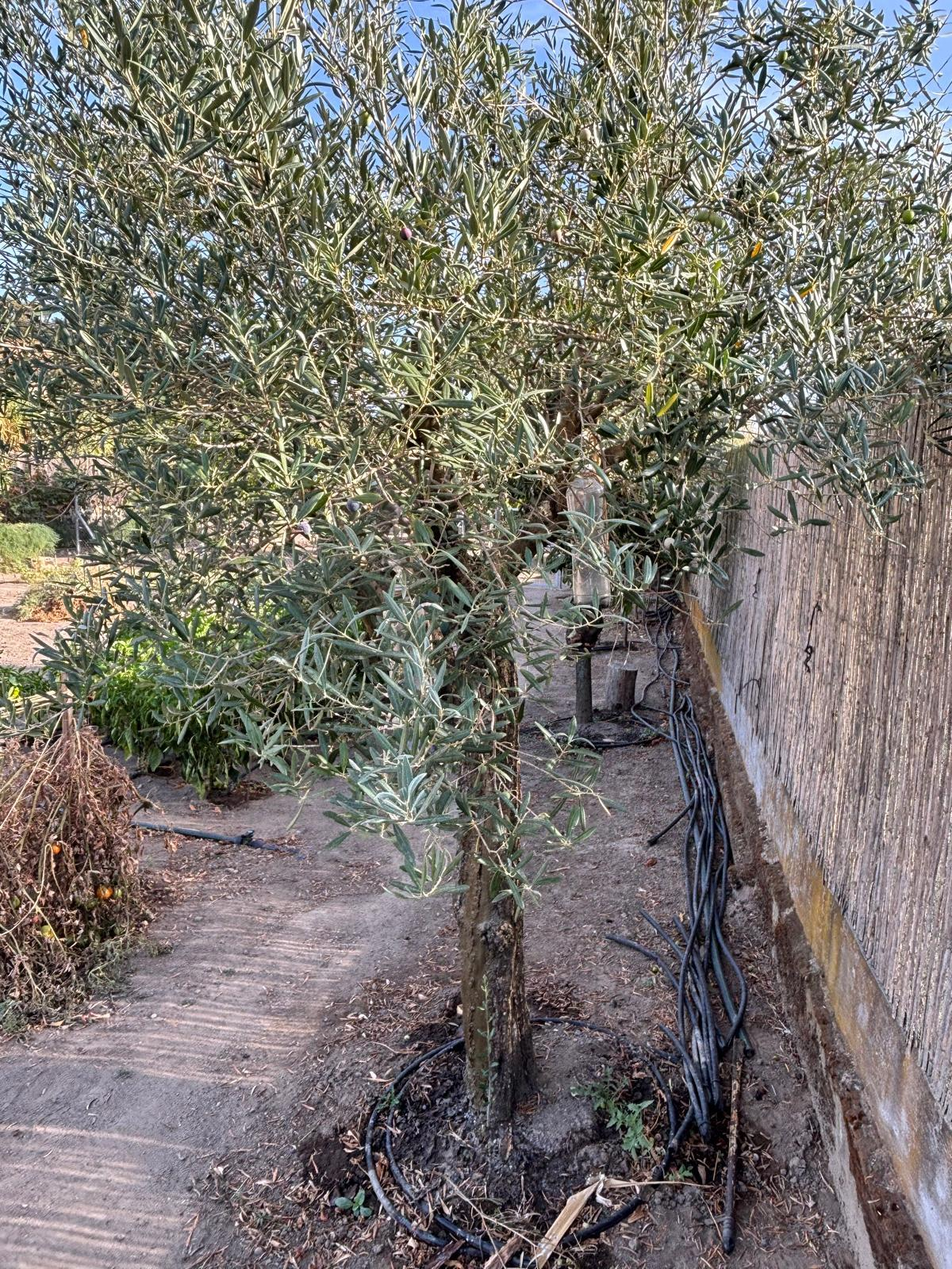olivo: (87, 164, 715, 1141)
